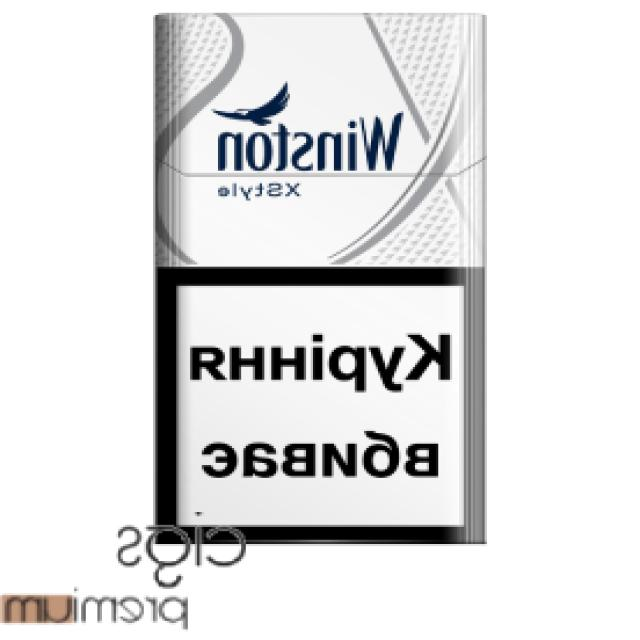winston: (152, 6, 490, 554)
